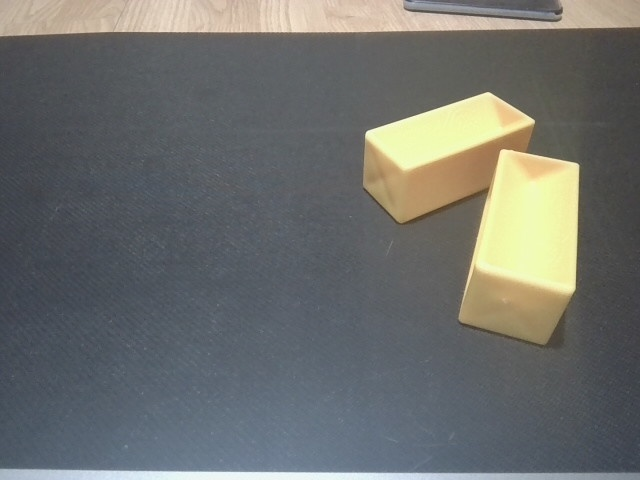YellowSample: (456, 148, 585, 348), (359, 88, 537, 226)
